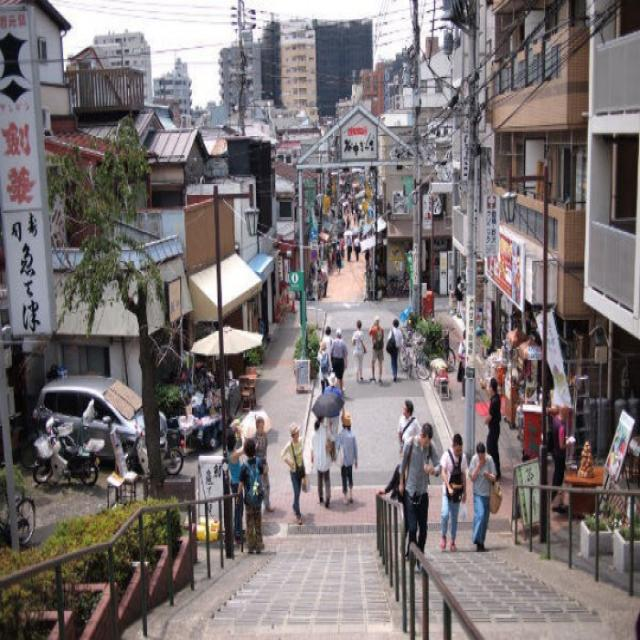body: (242, 485, 506, 573), (326, 169, 384, 303), (398, 420, 442, 555), (464, 439, 504, 554), (438, 431, 468, 552), (236, 435, 266, 555), (376, 445, 410, 540), (280, 420, 307, 526), (550, 404, 577, 505), (331, 409, 358, 508), (224, 429, 247, 545), (309, 414, 336, 509), (250, 414, 274, 514), (481, 374, 503, 481), (322, 368, 346, 460), (397, 398, 423, 458), (384, 316, 405, 382), (367, 314, 385, 384), (330, 327, 349, 393), (351, 370, 414, 388), (351, 318, 368, 384), (316, 339, 333, 396), (456, 327, 466, 401), (454, 274, 464, 318), (321, 324, 334, 350), (344, 231, 353, 262), (352, 232, 360, 262)
